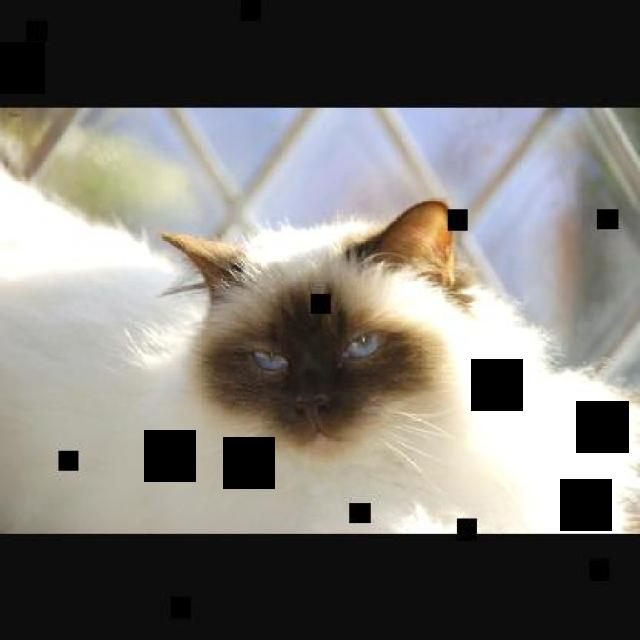unauthorized: (127, 197, 638, 534)
